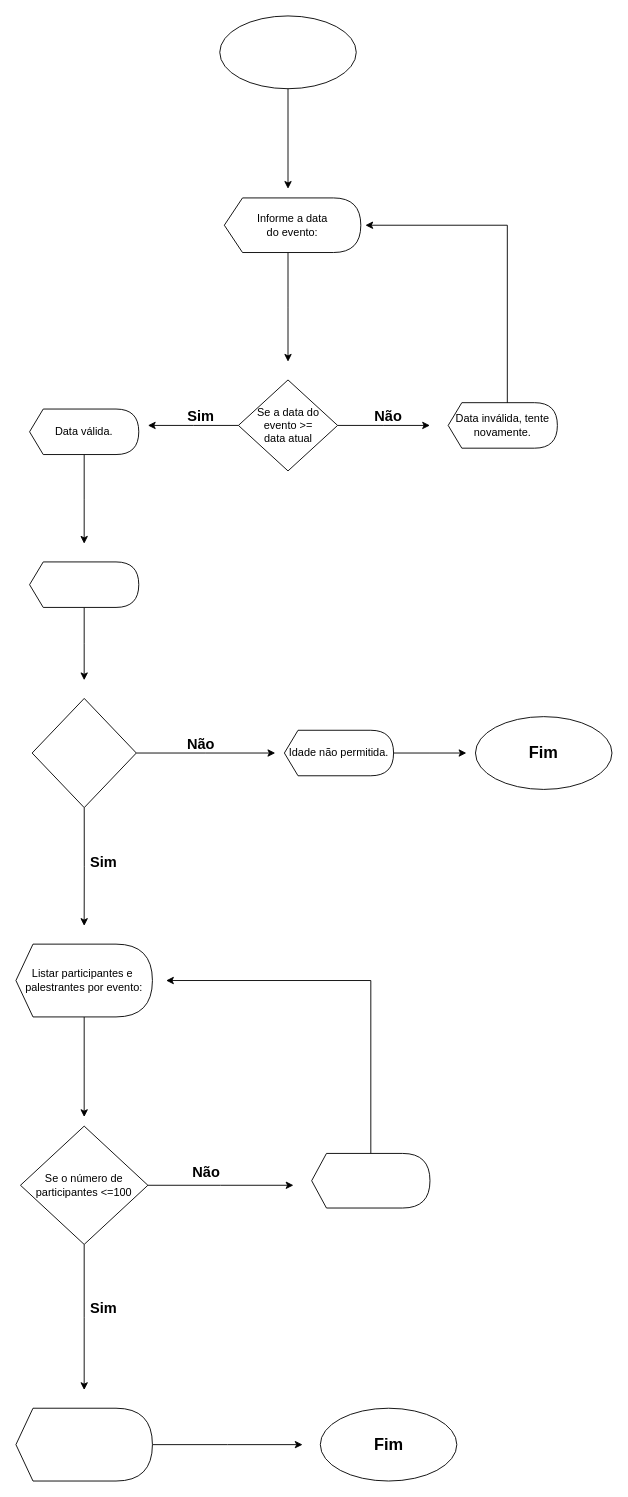
The diagram is 628 pixels wide and 1497 high, and some of its shapes have lost their labels. Here are the shapes that lost their labels. From the top down, the centre of each, then its label:
pixel 287 52: Início
pixel 84 584: Informe sua idade:
pixel 83 753: Se a idade >= 18 anos
pixel 370 1180: A quantidade excede os limites permitidos, tente novamente.
pixel 83 1444: Agendamento concluído com sucesso!
